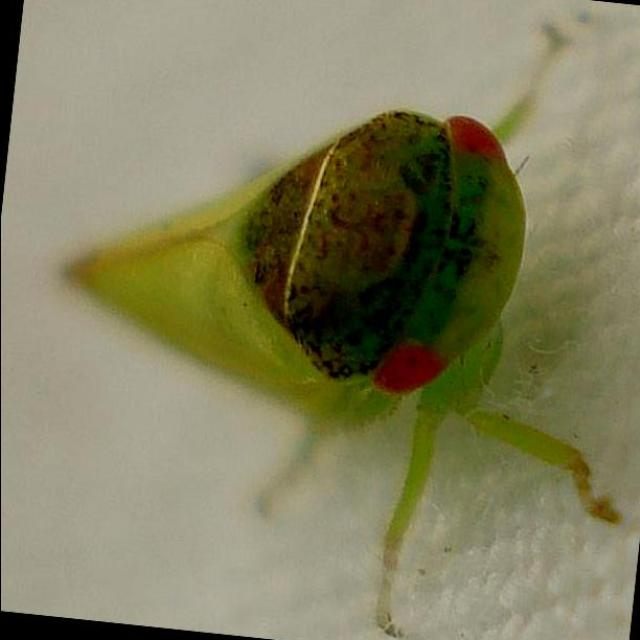green leaf hopper: (65, 33, 618, 636)
